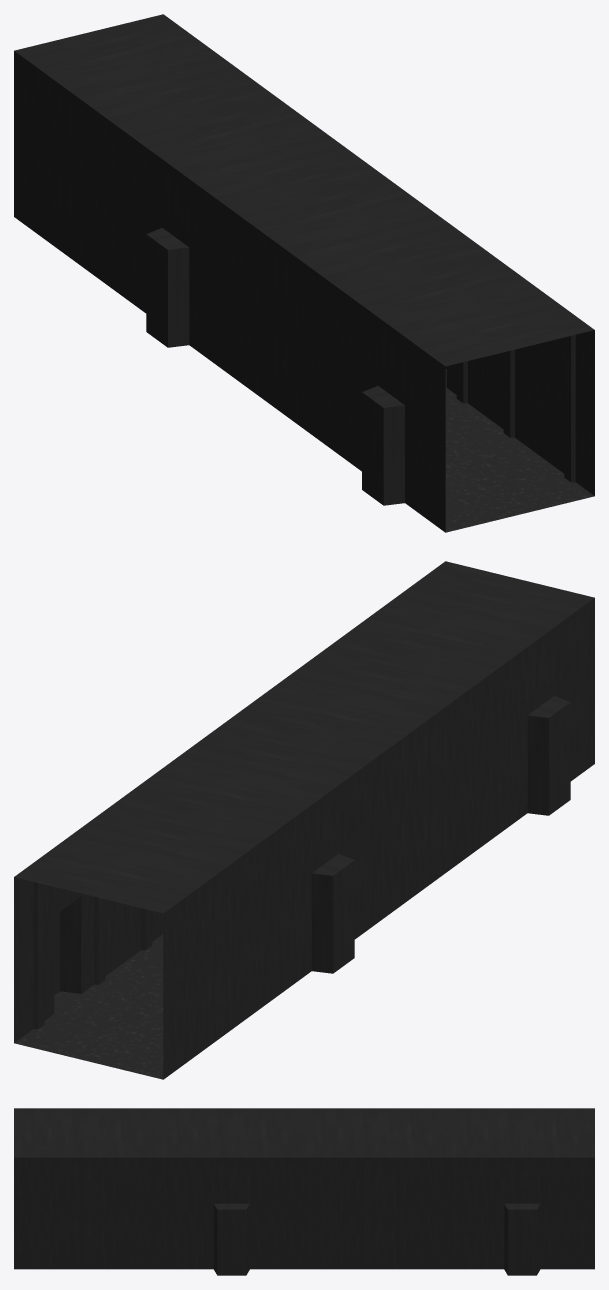
File: SW_ENV_RailTunnel_B_03_Single_20m.fbx
3 renders of one model, top to bottom at view 1: azimuth 30°, elevation 25°; view 2: azimuth 150°, elevation 25°; view 3: azimuth 270°, elevation 25°, orthographic. The views are drawn at different scales.
Visible parts, largest first — view 1: SW_ENV_RailTunnel_B_03_Single_20m; view 2: SW_ENV_RailTunnel_B_03_Single_20m; view 3: SW_ENV_RailTunnel_B_03_Single_20m.
Part boxes in pixels (left/top/right/bottom): SW_ENV_RailTunnel_B_03_Single_20m: left=14, top=14, right=594, bottom=532; SW_ENV_RailTunnel_B_03_Single_20m: left=14, top=561, right=594, bottom=1079; SW_ENV_RailTunnel_B_03_Single_20m: left=14, top=1108, right=594, bottom=1275.
Bounding box in the file's own units: 500 × 425 × 2000.
